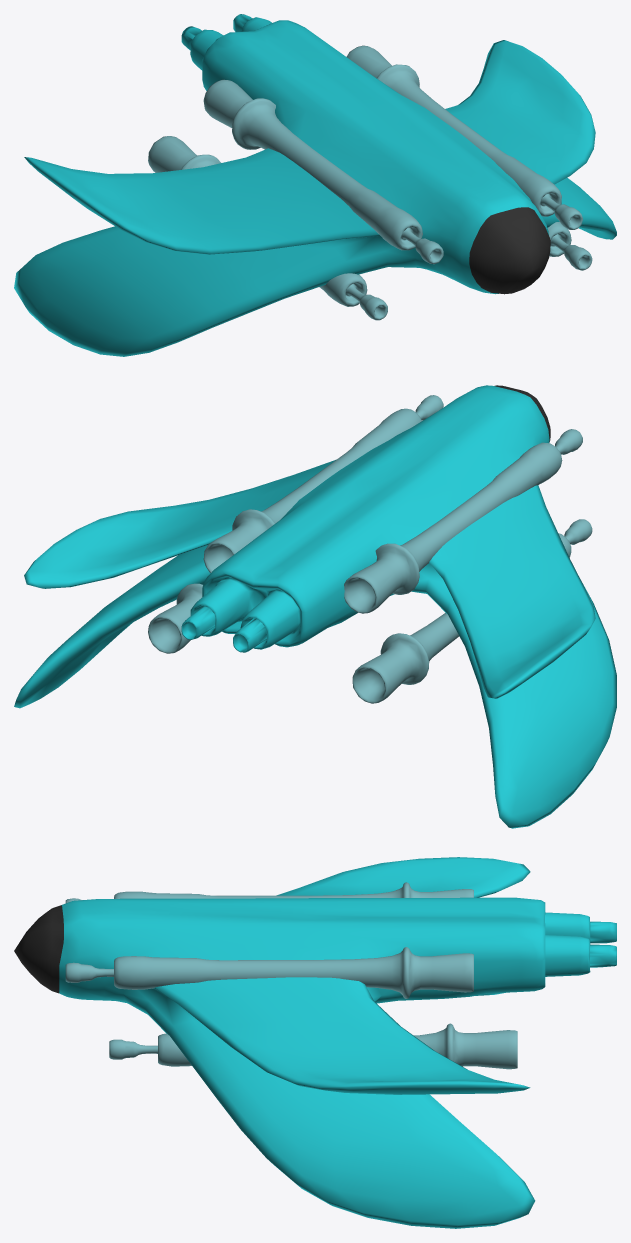
Rendered from Spaceship1.dae.
3 renders of one model, top to bottom at view 1: azimuth 30°, elevation 25°; view 2: azimuth 150°, elevation 25°; view 3: azimuth 270°, elevation 25°, orthographic. The views are drawn at different scales.
Visible parts, largest first — view 1: Cube_001; view 2: Cube_001; view 3: Cube_001.
Boxes of the visible parts, x1,y1,x2,y2 form: Cube_001: (14,14,616,356); Cube_001: (14,385,616,828); Cube_001: (14,857,616,1228).
Bounding box in the file's own units: 9.27 × 10.13 × 3.81.
